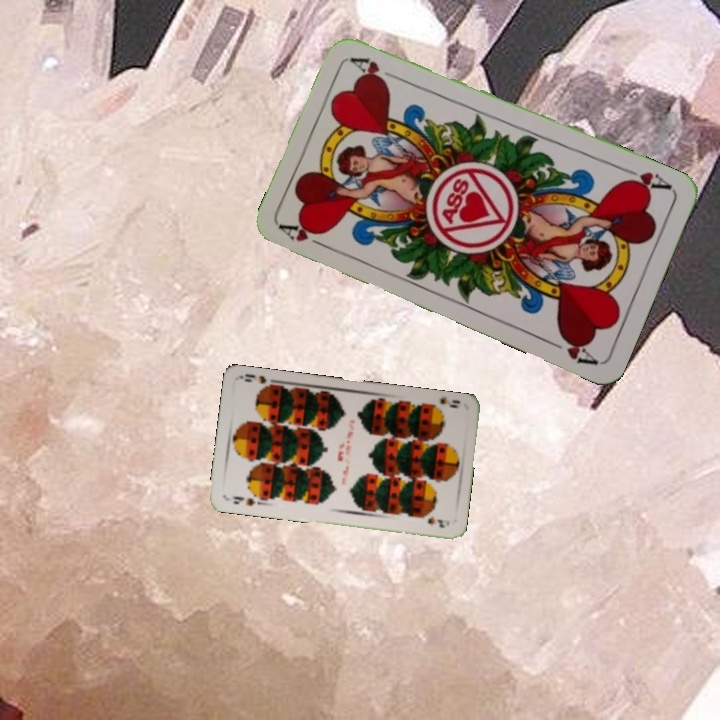HA: (277, 217, 333, 253), (618, 163, 675, 195)
S9: (425, 393, 463, 413), (228, 492, 258, 508)
